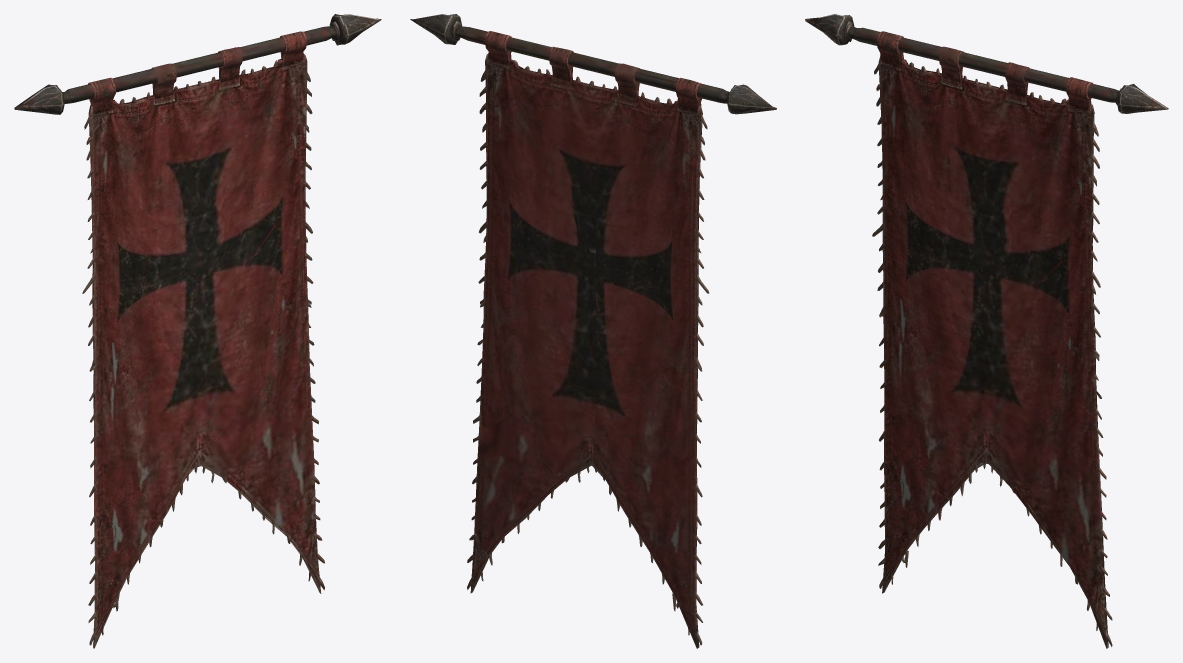
File: d_banner_patternB_red.glb
3 views of the same model, side by side, from view 1: azimuth 30°, elevation 25°; view 2: azimuth 150°, elevation 25°; view 3: azimuth 330°, elevation 25° (orthographic).
Parts seen in each view (by area): view 1: d_banner_patternB_red; view 2: d_banner_patternB_red; view 3: d_banner_patternB_red.
Part boxes in pixels (x1=…): d_banner_patternB_red: x1=14, y1=14, x2=381, y2=648; d_banner_patternB_red: x1=410, y1=14, x2=776, y2=648; d_banner_patternB_red: x1=805, y1=14, x2=1168, y2=648.
Bounding box in the file's own units: 2.15 × 3.2 × 0.1615.
Materials: 1 (1 with a texture image).
